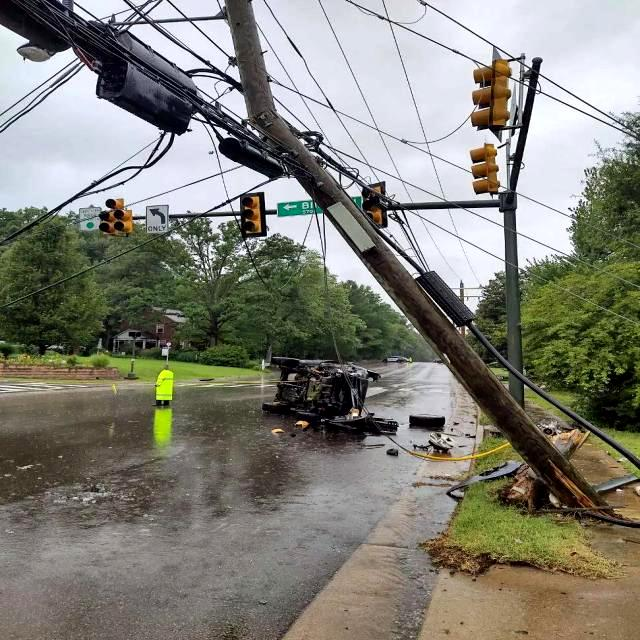Broken Pole: (201, 0, 622, 523)
